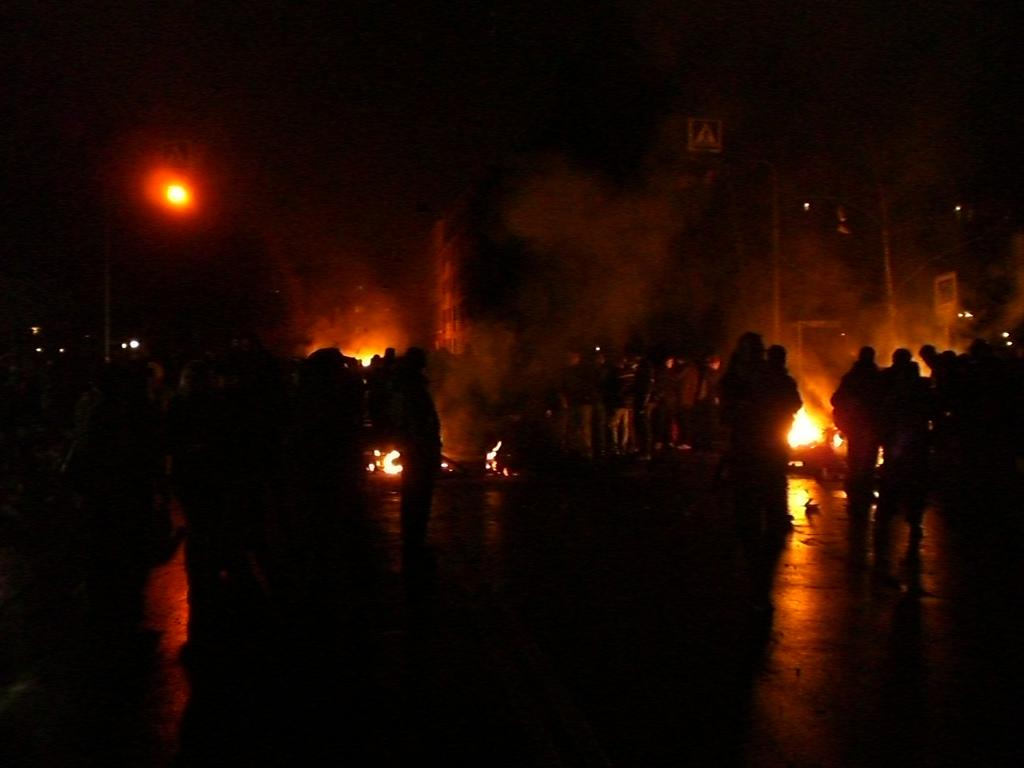fire: (352, 332, 430, 376), (780, 412, 840, 460)
